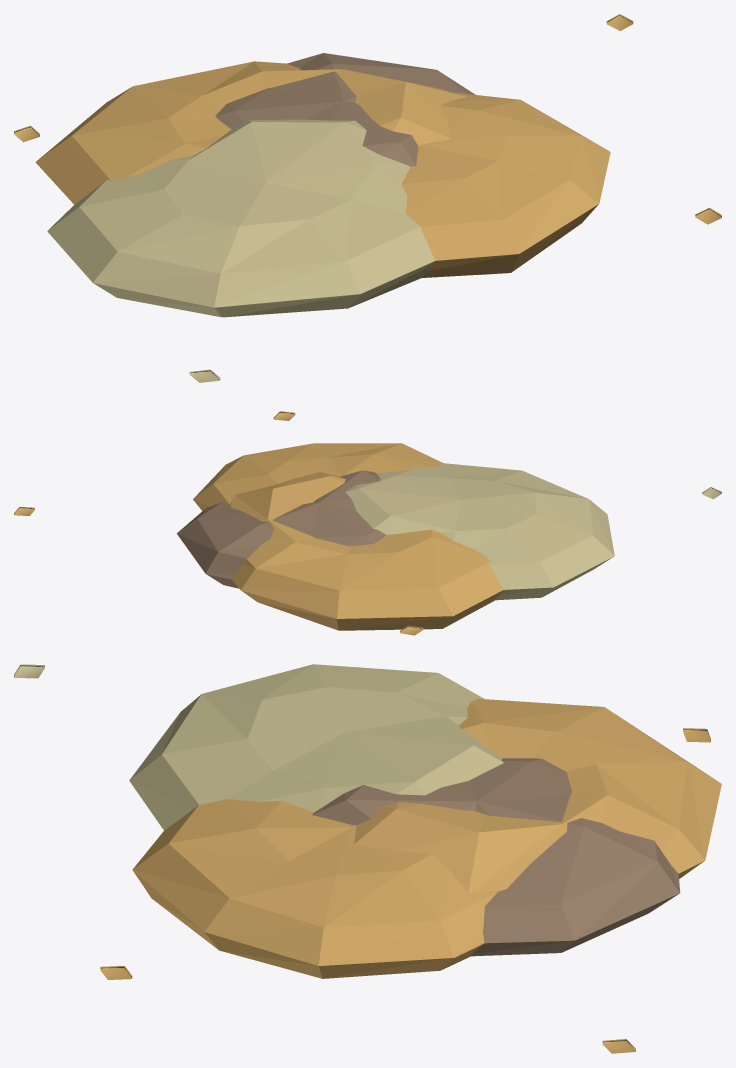
Rendered from leaf_pile.glb.
3 views of the same model, one above another, from view 1: azimuth 30°, elevation 25°; view 2: azimuth 150°, elevation 25°; view 3: azimuth 270°, elevation 25° (orthographic). The views are drawn at different scales.
Parts seen in each view (by area): view 1: leaf_pile; view 2: leaf_pile; view 3: leaf_pile.
Part boxes in pixels (<box>): leaf_pile: <box>14,14,721,382</box>; leaf_pile: <box>14,411,721,635</box>; leaf_pile: <box>14,664,721,1053</box>.
Bounding box in the file's own units: 2.39 × 0.3704 × 1.86.
